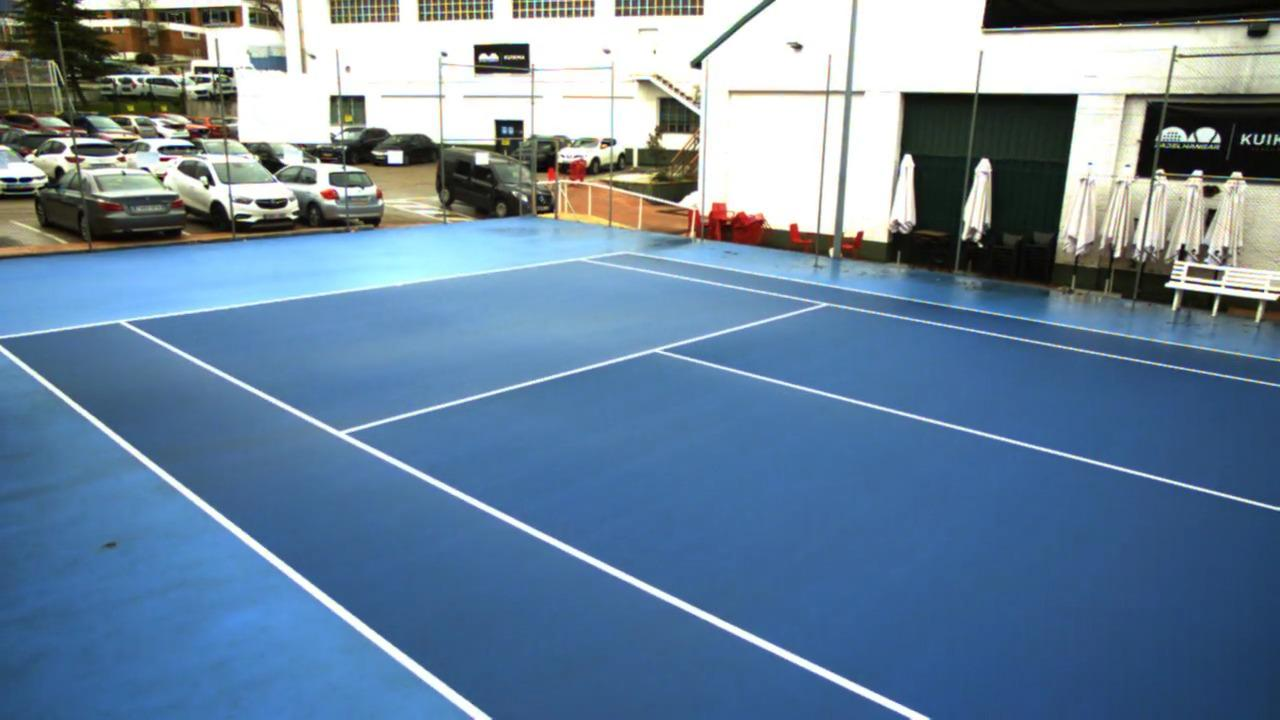cancha_tenis: (119, 256, 1280, 720)
point_f1: (112, 308, 135, 334)
point_f2: (573, 253, 597, 269)
point_fc1: (388, 279, 410, 294)
point_i1: (324, 420, 359, 448)
point_i2: (808, 292, 841, 314)
point_ic1: (646, 334, 680, 361)
